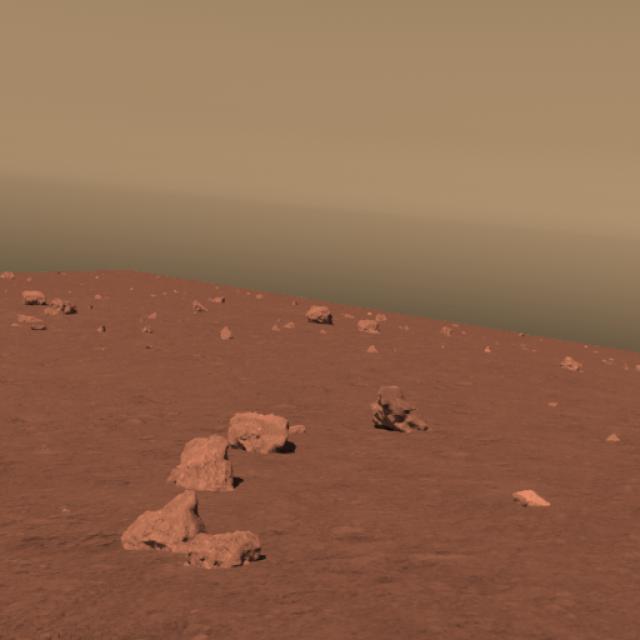rock: (109, 489, 206, 566), (162, 428, 242, 500), (176, 517, 271, 561), (226, 406, 296, 457)
